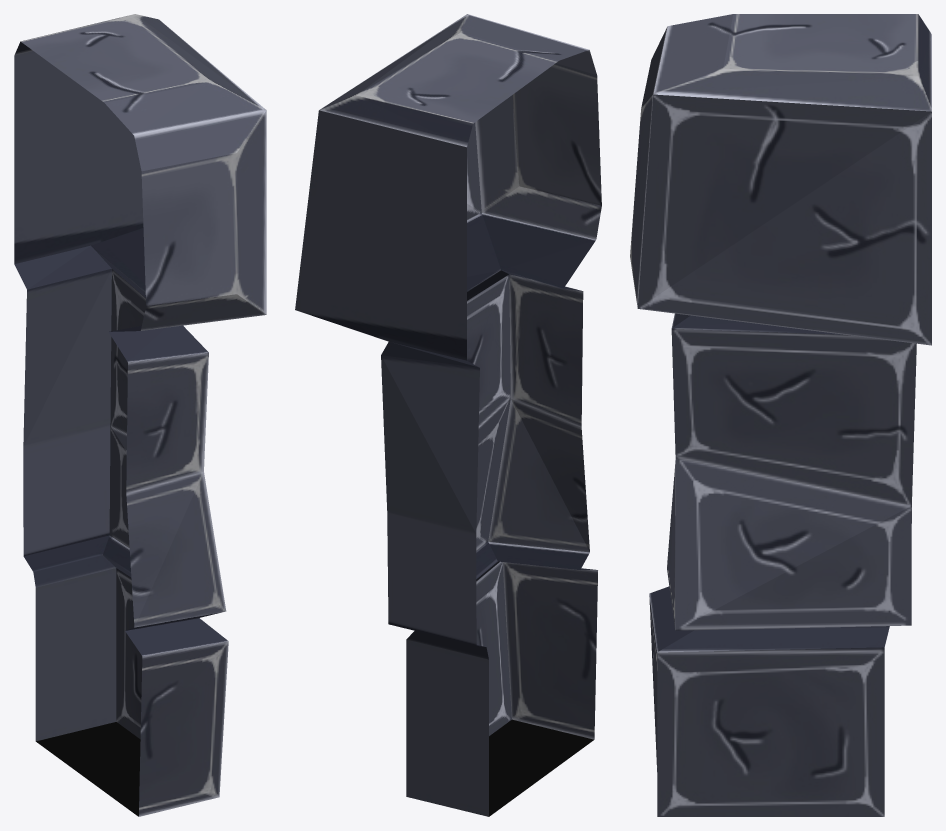
File: pilar 1.FBX
3 views of the same model, side by side, from view 1: azimuth 30°, elevation 25°; view 2: azimuth 150°, elevation 25°; view 3: azimuth 270°, elevation 25° (orthographic). The views are drawn at different scales.
Parts seen in each view (by area): view 1: Box042; view 2: Box042; view 3: Box042.
Boxes of the visible parts, x1,y1,x2,y2 form: Box042: (14,14,266,816); Box042: (295,14,601,816); Box042: (630,14,931,816).
Bounding box in the file's own units: 80.79 × 316 × 114.
